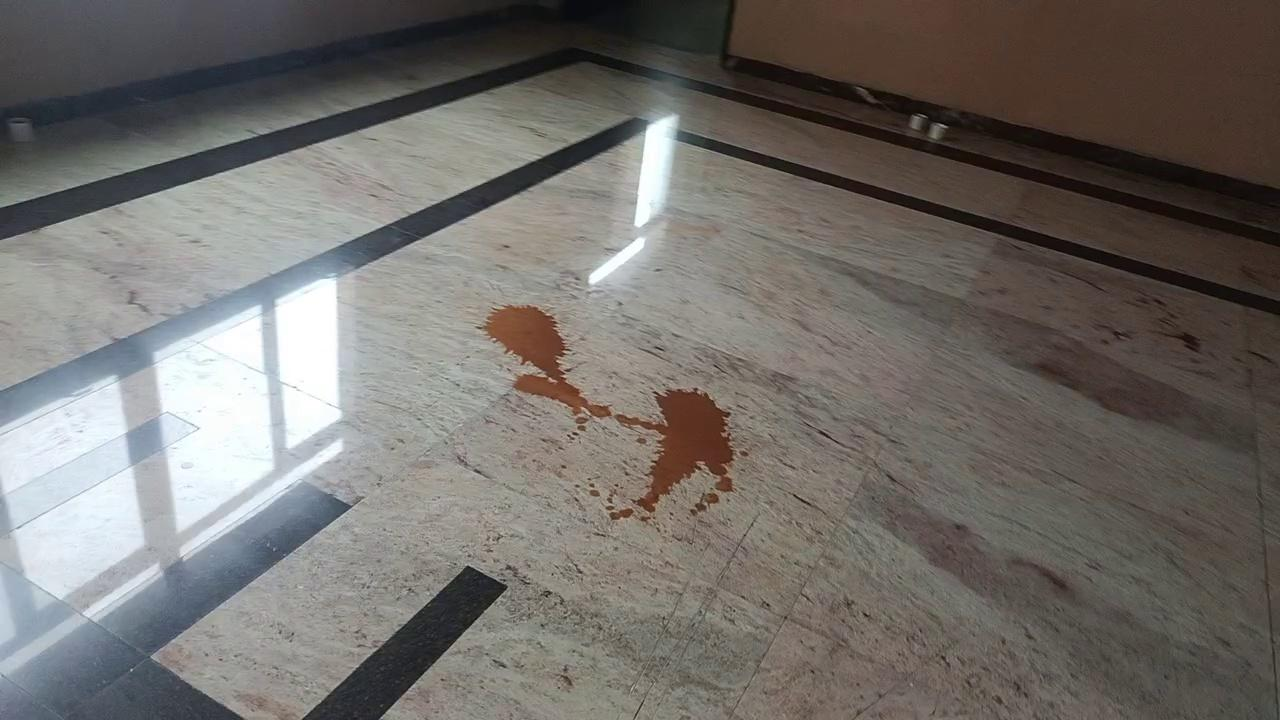dirty_floor: (477, 302, 740, 520)
